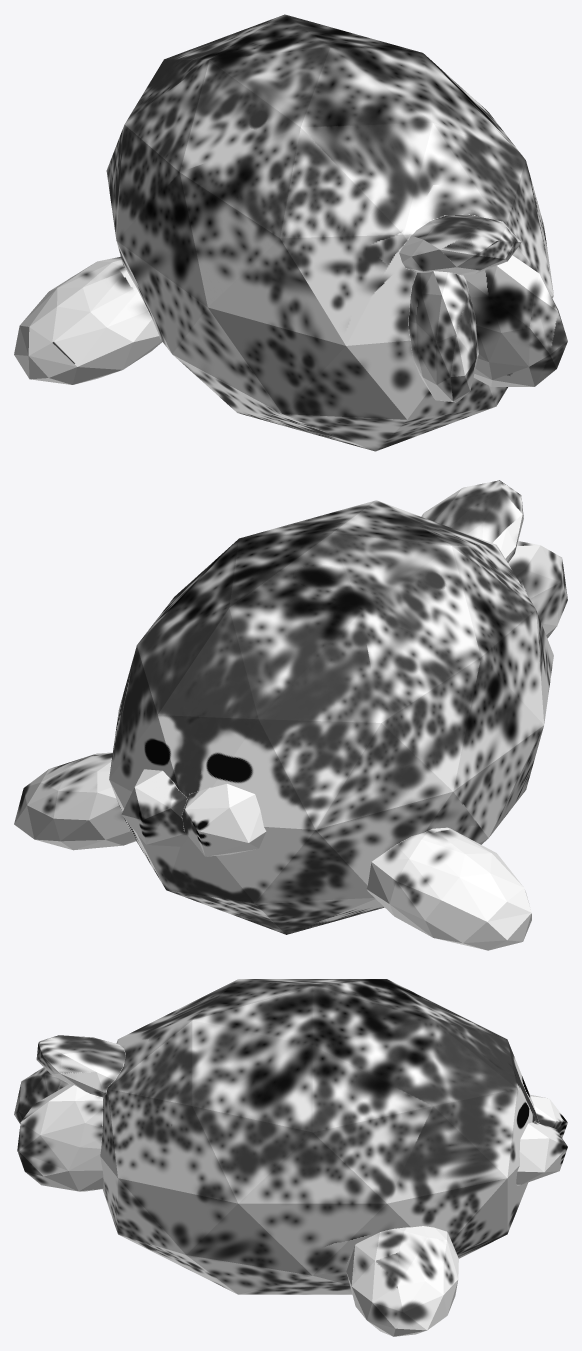
Rendered from ceiling.glb.
3 renders of one model, top to bottom at view 1: azimuth 30°, elevation 25°; view 2: azimuth 150°, elevation 25°; view 3: azimuth 270°, elevation 25°, orthographic. The views are drawn at different scales.
Visible parts, largest first — view 1: Sphere.013; view 2: Sphere.013; view 3: Sphere.013.
Part boxes in pixels (x1,y1,x2,y2): Sphere.013: [14, 14, 567, 451]; Sphere.013: [14, 480, 567, 950]; Sphere.013: [14, 979, 567, 1336].
Size of the model in its own units: 2.88 by 2 by 3.34.
1 material, 1 textured.
